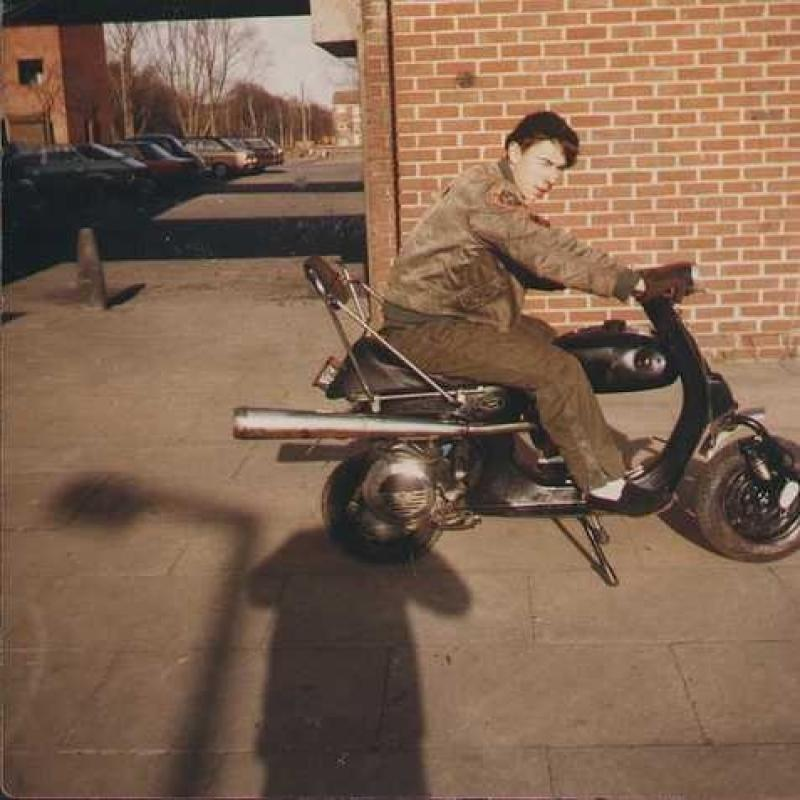bike: (291, 254, 791, 575)
